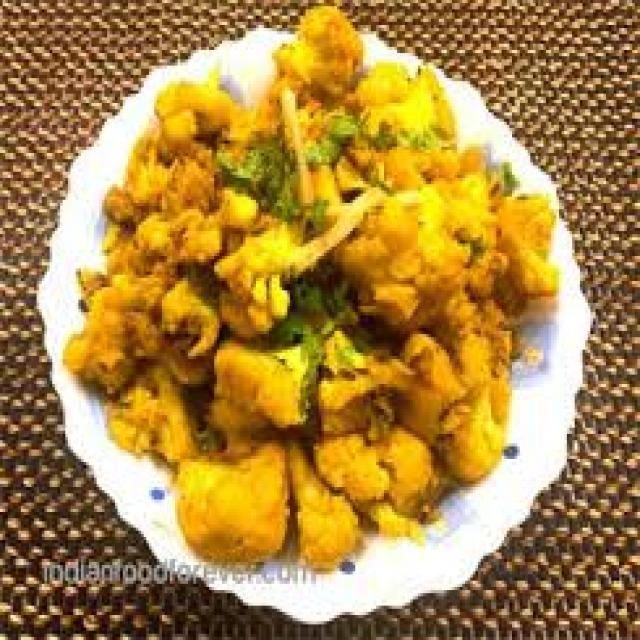Aloo Gobi: (92, 38, 606, 581), (91, 38, 553, 582)
